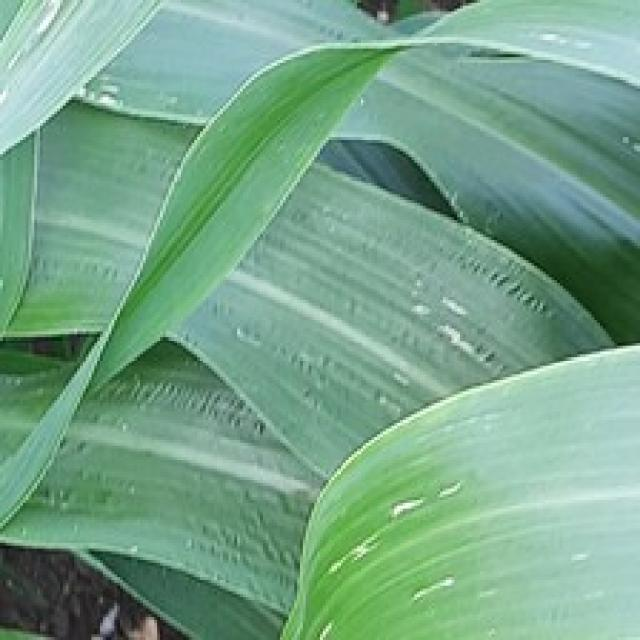Corn: (0, 0, 637, 637), (266, 332, 637, 637)
